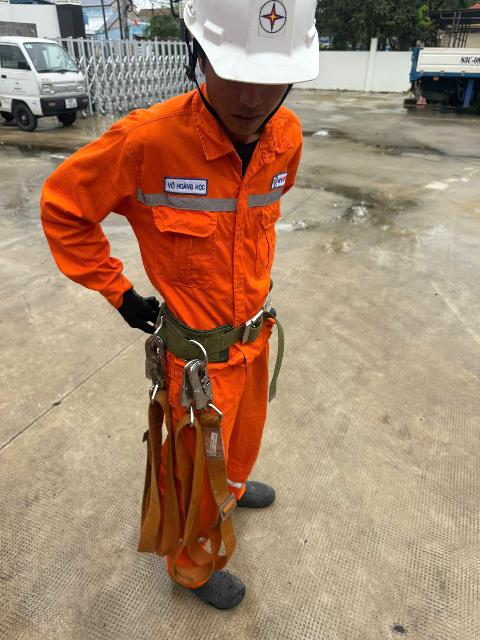gloves: (123, 289, 165, 337)
harness: (135, 297, 314, 372)
helmet: (168, 0, 356, 116)
shoes: (172, 548, 249, 612), (221, 473, 282, 520)
